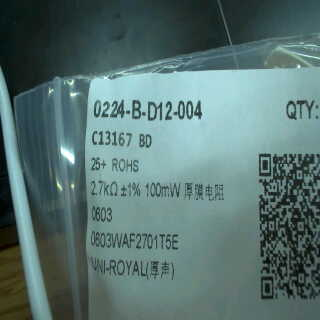2.7kR: (87, 179, 123, 201)
